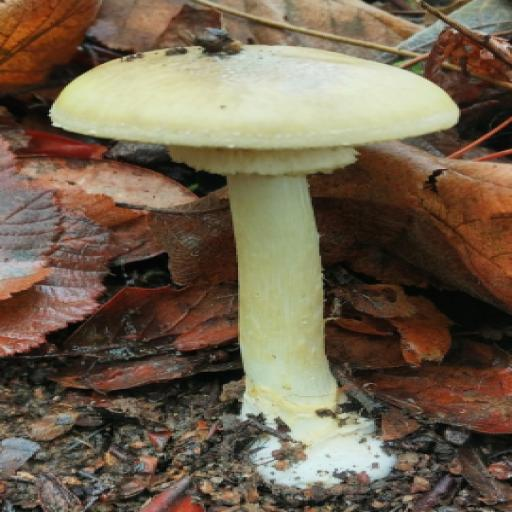mushroom: (0, 8, 468, 512)
